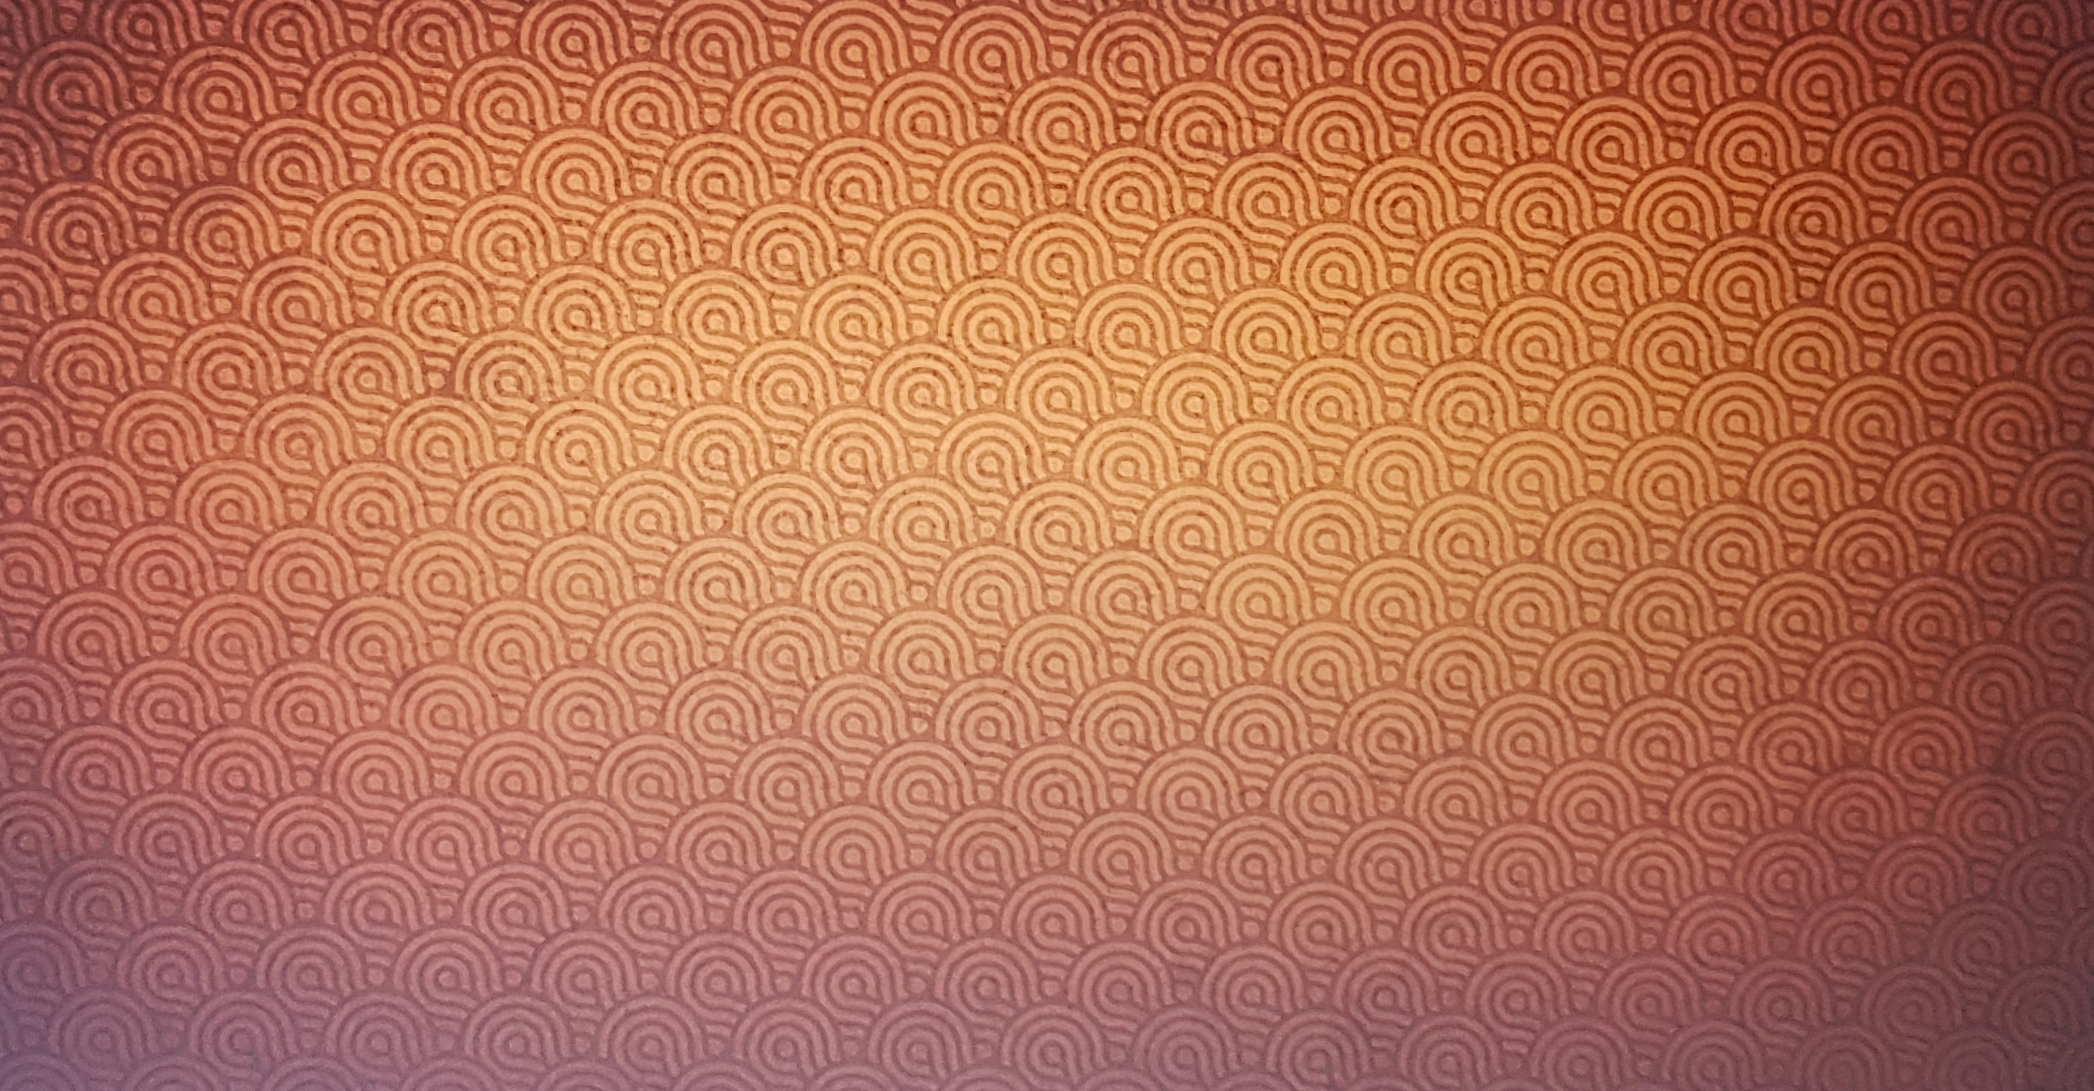Brown: (25, 29, 2061, 1062)
